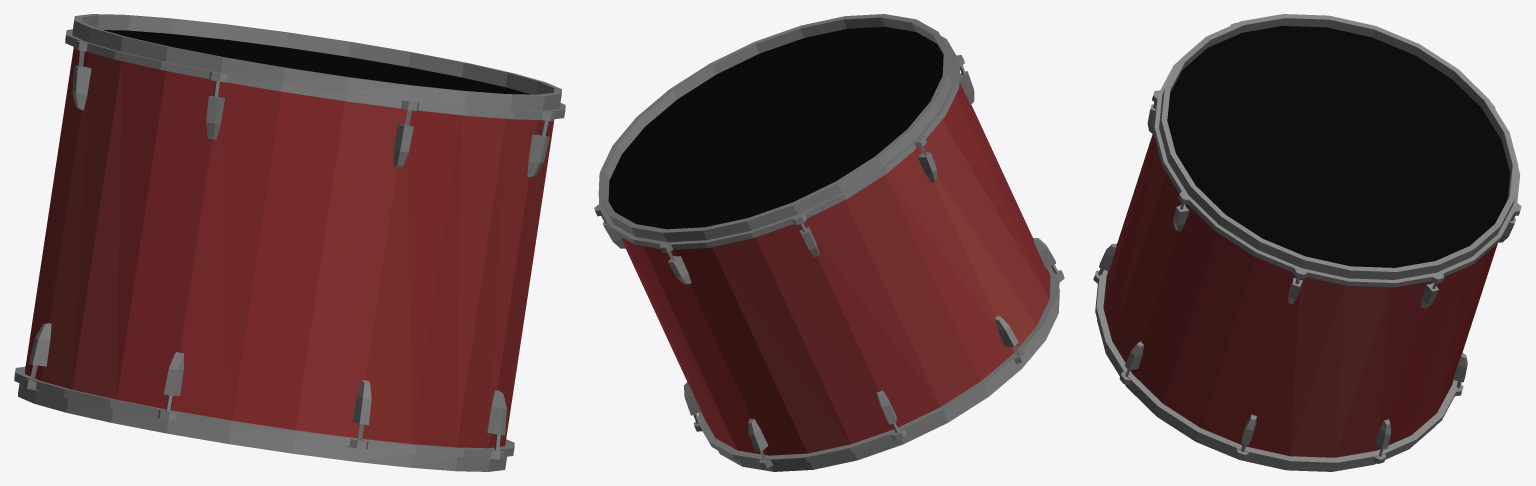
File: drum4-head.fbx
3 renders of one model, left to right at view 1: azimuth 30°, elevation 25°; view 2: azimuth 150°, elevation 25°; view 3: azimuth 270°, elevation 25°, orthographic. The views are drawn at different scales.
Parts seen in each view (by area): view 1: polySurface793; view 2: polySurface793; view 3: polySurface793.
Part boxes in pixels (x1,y1,x2,y2): polySurface793: (14, 14, 565, 471); polySurface793: (594, 14, 1064, 471); polySurface793: (1093, 14, 1521, 471).
Size of the model in its own units: 64.29 by 58.01 by 62.04.
